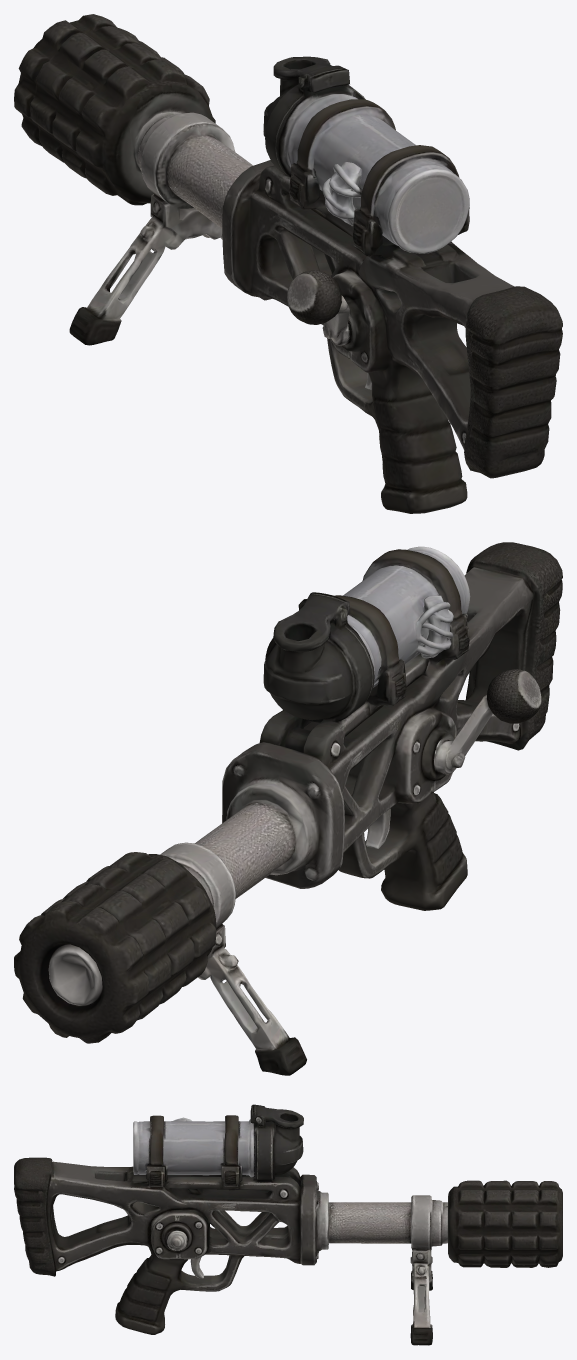
File: weapon-long-bar.glb
3 views of the same model, one above another, from view 1: azimuth 30°, elevation 25°; view 2: azimuth 150°, elevation 25°; view 3: azimuth 270°, elevation 25° (orthographic). The views are drawn at different scales.
Parts seen in each view (by area): view 1: tripo_node_678ad8cf-112d-4b12-a483-c415dea9c56f; view 2: tripo_node_678ad8cf-112d-4b12-a483-c415dea9c56f; view 3: tripo_node_678ad8cf-112d-4b12-a483-c415dea9c56f.
Boxes of the visible parts, box(x1,y1,x2,y2) form: tripo_node_678ad8cf-112d-4b12-a483-c415dea9c56f: box(14, 14, 562, 513); tripo_node_678ad8cf-112d-4b12-a483-c415dea9c56f: box(14, 542, 562, 1075); tripo_node_678ad8cf-112d-4b12-a483-c415dea9c56f: box(14, 1104, 562, 1345).
Size of the model in its own units: 0.3807 by 0.5741 by 1.3.
Materials: 1 (1 with a texture image).
